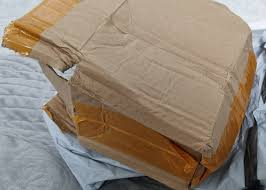damaged package: (1, 0, 128, 138)
